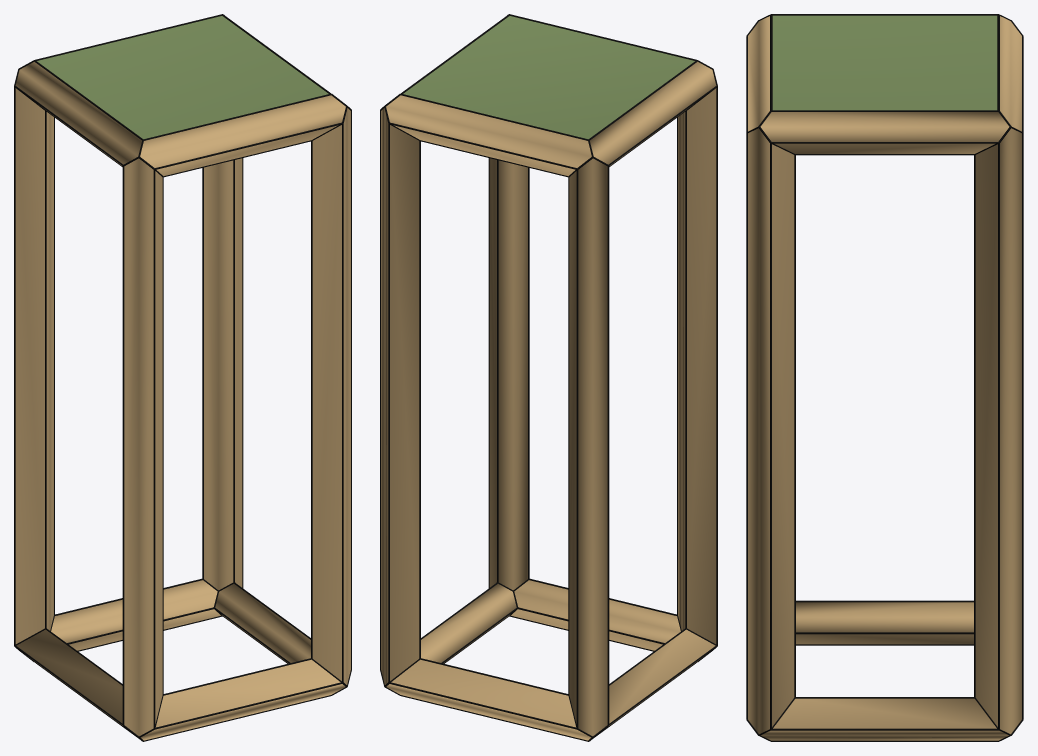
The model's file is console-300.glb.
3 views of the same model, side by side, from view 1: azimuth 30°, elevation 25°; view 2: azimuth 150°, elevation 25°; view 3: azimuth 270°, elevation 25° (orthographic). The views are drawn at different scales.
Visible parts, largest first — view 1: arete-Z0, arete-Z1, arete-Z2, panneau-dessus_exterieur, arete-Z3, arete-X2, arete-X0, arete-X1, arete-wire-Z0, arete-Y2, arete-Y0, arete-Y1 (+9 smaller); view 2: arete-Z2, arete-Z3, arete-Z0, panneau-dessus_exterieur, arete-Z1, arete-X3, arete-X1, arete-X0, arete-Y2, arete-wire-Z2, arete-Y0, arete-Y1 (+9 smaller); view 3: arete-Z1, arete-Z3, panneau-dessus_exterieur, arete-Y3, arete-Y1, arete-Y0, arete-wire-Z1, arete-wire-Z3, arete-X2, arete-X3, arete-wire-Y1, arete-wire-Y0 (+4 smaller).
Boxes of the visible parts, bbox=[...] form: arete-Z0: bbox=[124, 158, 162, 736]; arete-Z1: bbox=[312, 108, 350, 684]; arete-Z2: bbox=[15, 88, 53, 643]; panneau-dessus_exterieur: bbox=[37, 16, 328, 139]; arete-Z3: bbox=[204, 158, 242, 590]; arete-X2: bbox=[140, 95, 345, 176]; arete-X0: bbox=[140, 659, 345, 740]; arete-X1: bbox=[51, 580, 220, 650]; arete-wire-Z0: bbox=[122, 157, 163, 728]; arete-Y2: bbox=[15, 61, 141, 165]; arete-Y0: bbox=[16, 629, 122, 725]; arete-Y1: bbox=[215, 583, 310, 663]; arete-Z2: bbox=[569, 158, 607, 736]; arete-Z3: bbox=[381, 108, 419, 684]; arete-Z0: bbox=[678, 88, 716, 643]; panneau-dessus_exterieur: bbox=[403, 16, 694, 139]; arete-Z1: bbox=[489, 158, 527, 590]; arete-X3: bbox=[386, 95, 591, 176]; arete-X1: bbox=[386, 659, 591, 740]; arete-X0: bbox=[511, 580, 680, 650]; arete-Y2: bbox=[590, 61, 716, 165]; arete-wire-Z2: bbox=[568, 157, 609, 728]; arete-Y0: bbox=[609, 629, 715, 725]; arete-Y1: bbox=[421, 583, 516, 663]; arete-Z1: bbox=[748, 128, 794, 734]; arete-Z3: bbox=[975, 128, 1021, 734]; panneau-dessus_exterieur: bbox=[772, 15, 997, 110]; arete-Y3: bbox=[760, 112, 1009, 153]; arete-Y1: bbox=[761, 698, 1008, 740]; arete-Y0: bbox=[796, 602, 973, 644]; arete-wire-Z1: bbox=[746, 127, 795, 729]; arete-wire-Z3: bbox=[974, 133, 1023, 729]; arete-X2: bbox=[748, 16, 769, 131]; arete-X3: bbox=[1000, 16, 1021, 131]; arete-wire-Y1: bbox=[758, 697, 1011, 741]; arete-wire-Y0: bbox=[796, 600, 973, 645].
Size of the model in its own units: 0.3309 by 0.8309 by 0.3309.
